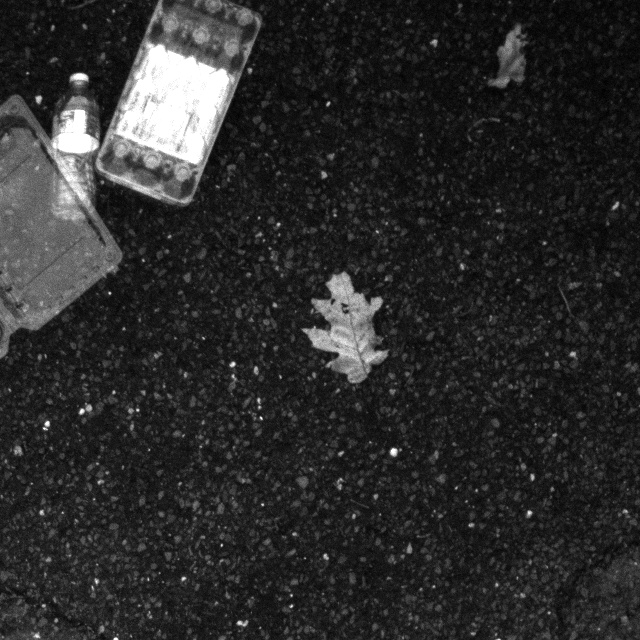bottle: (29, 75, 103, 230)
container: (0, 94, 139, 421), (100, 0, 265, 218)
